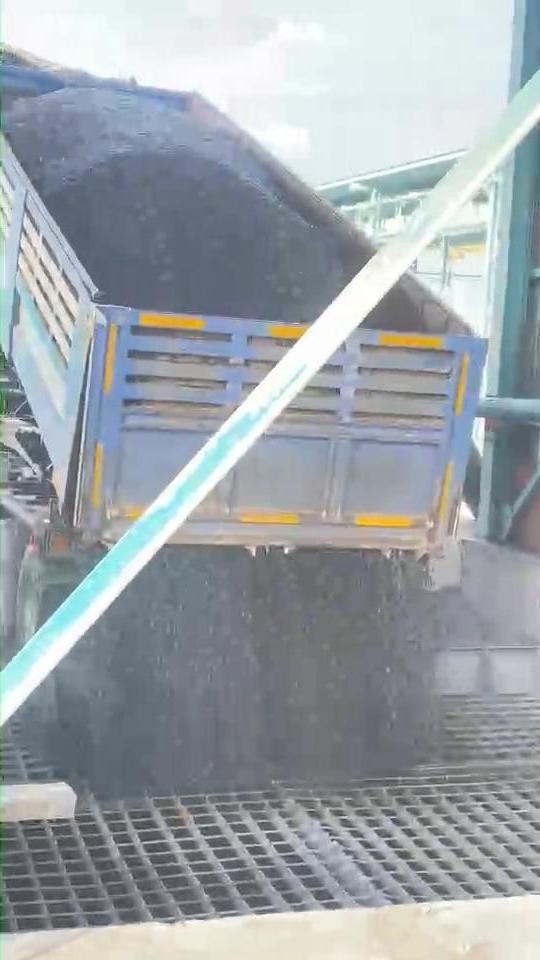gravel: (52, 547, 435, 796), (3, 87, 372, 321), (366, 278, 467, 331)
